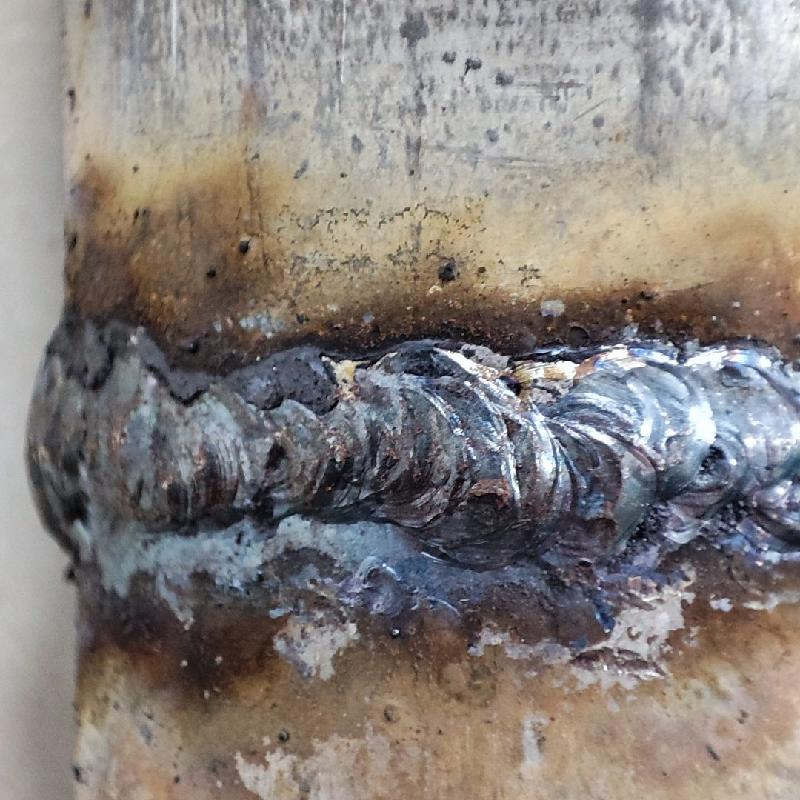Surface_pores: (250, 428, 298, 478)
good: (13, 304, 799, 553)
